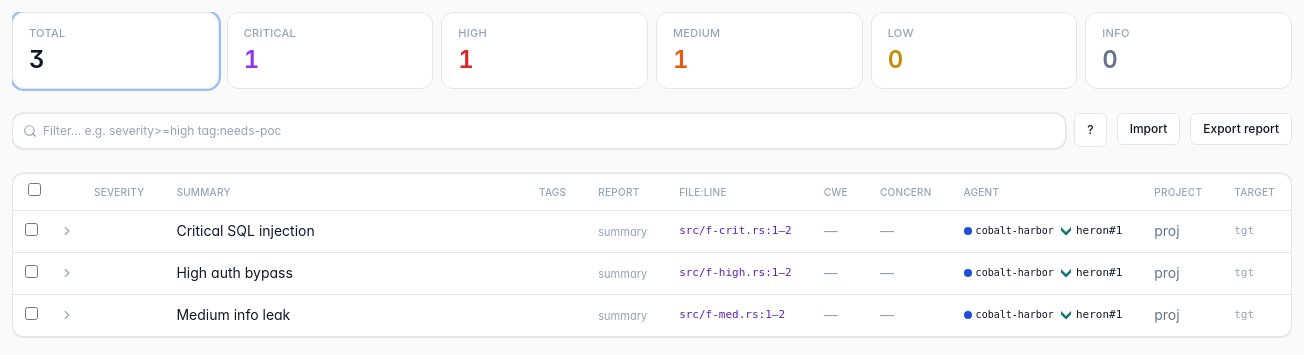
Test: ProjectFindingsTab › renders tiles + rows, filters by High, then restores via re-click
Expected: the text "Critical SQL injection" is shown, [176, 222, 315, 239]
Expected: the text "High auth bypass" is shown, [176, 264, 293, 281]
Note: Click "high" → only the high-severity row remains.
Click the button with aria-label "Filter by high". click: (545, 50)
box: [441, 12, 648, 88]
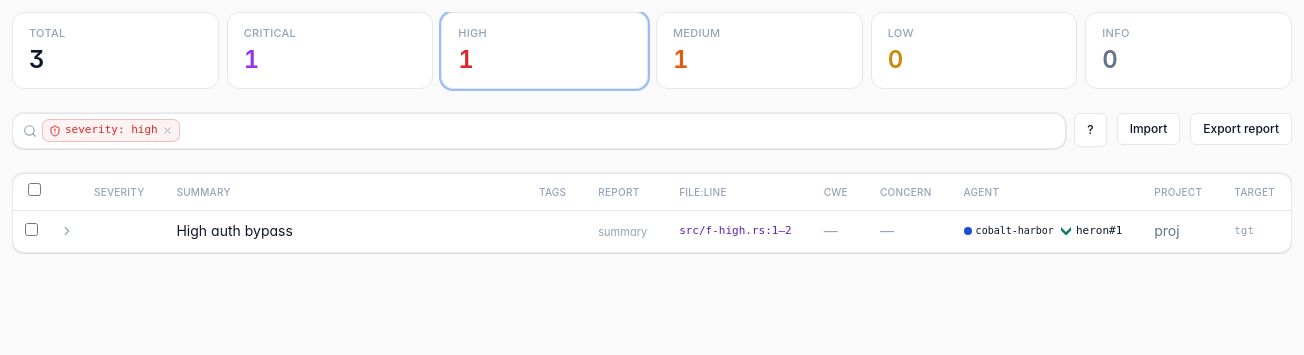
Expected: the text "High auth bypass" is shown, [176, 222, 293, 239]
Now the text "Critical SQL injection" is gone
Now the text "Medium info leak" is gone
Note: Click the Total tile → filter clears, all rows return.
Click the button with aria-label "Filter by Total". click: (115, 50)
box: [12, 12, 219, 88]
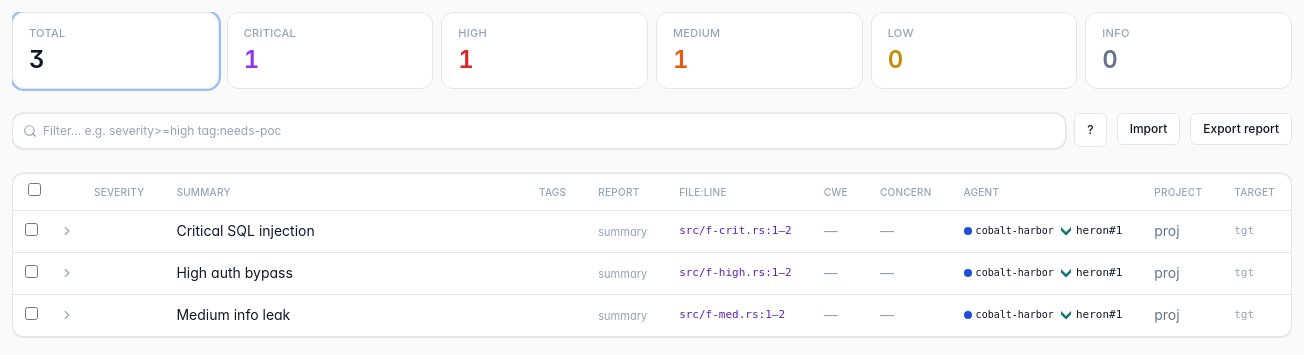
Expected: the text "High auth bypass" is shown, [176, 264, 293, 281]
Now the text "Critical SQL injection" is shown, box [176, 222, 315, 239]
Now the text "Medium info leak" is shown, box [176, 306, 290, 323]
